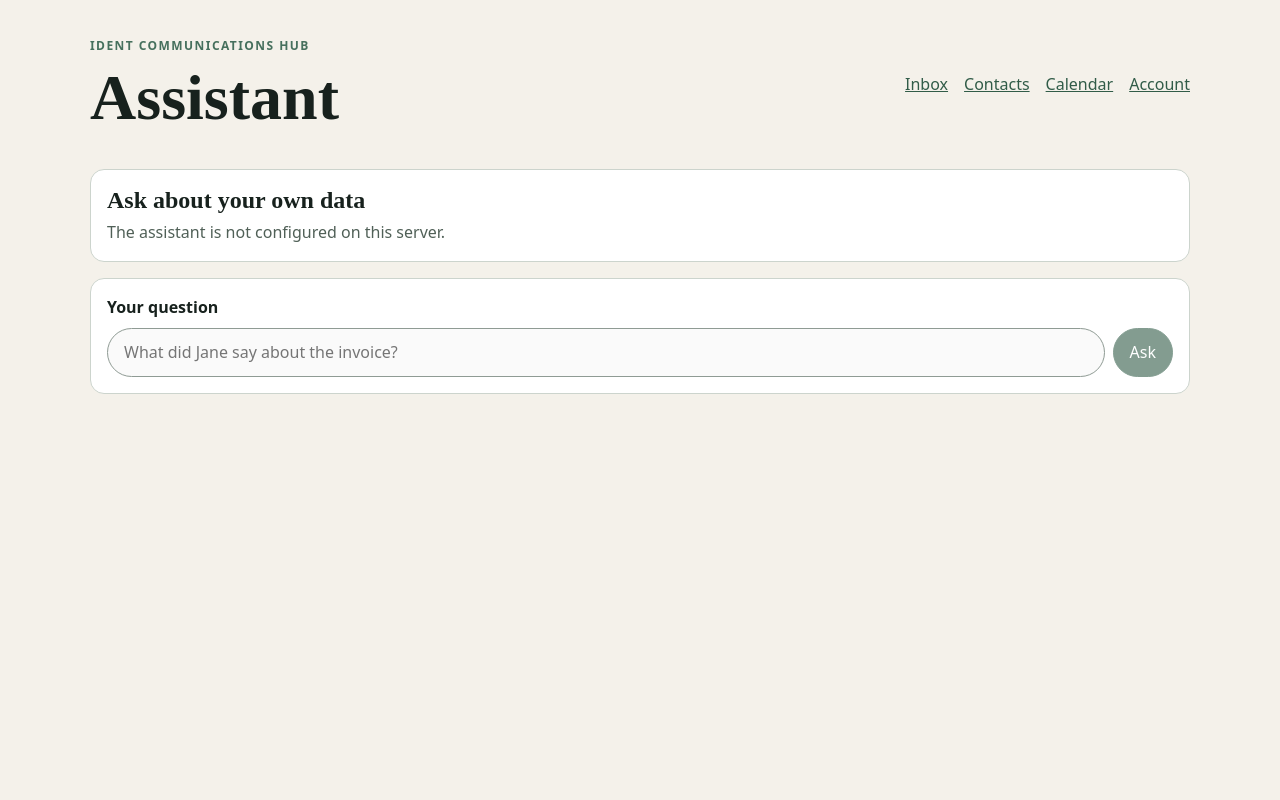
AssistantClient › surfaces a refusal rather than presenting it as an answer
Expected: the button "Ask" is shown, [1113, 328, 1173, 377]
Type "something" into the field labelled "Your question" at (606, 352), box [107, 328, 1105, 377]
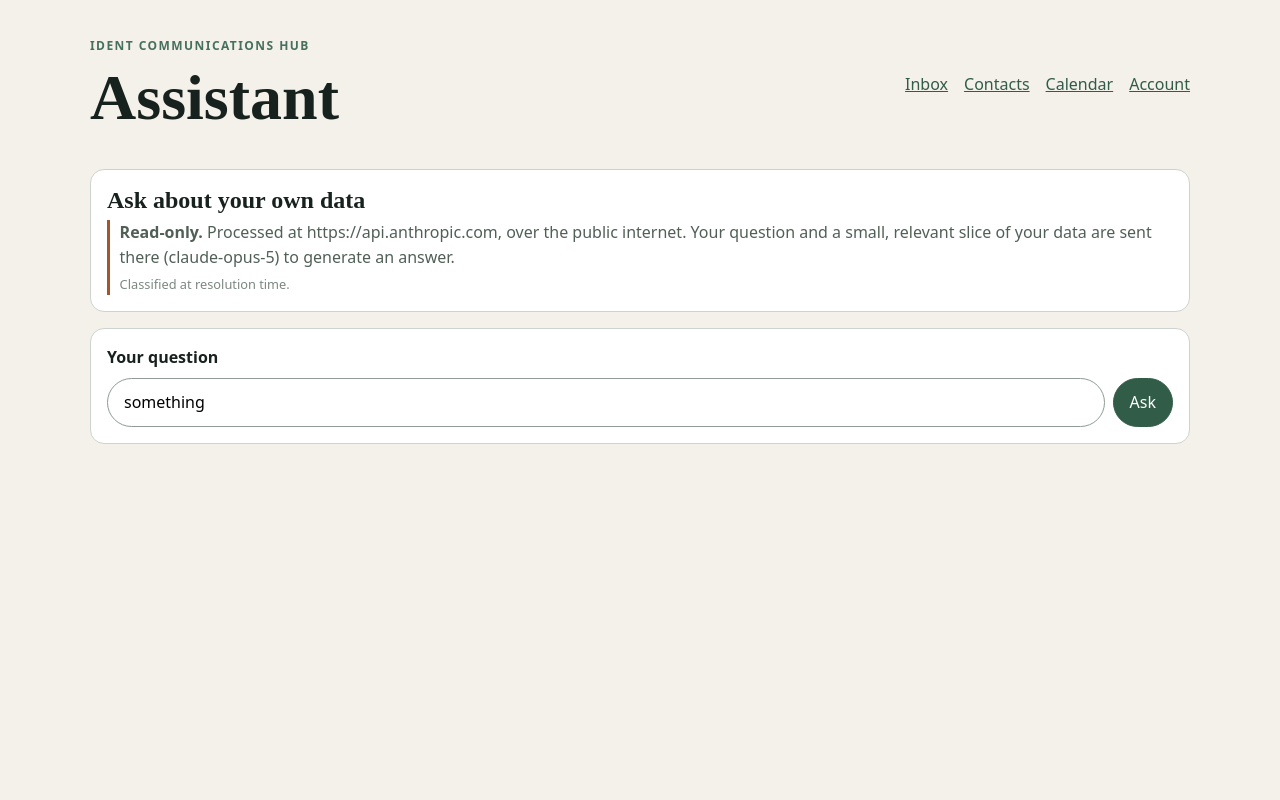
Click the button "Ask" at (1143, 403), box [1113, 378, 1173, 427]
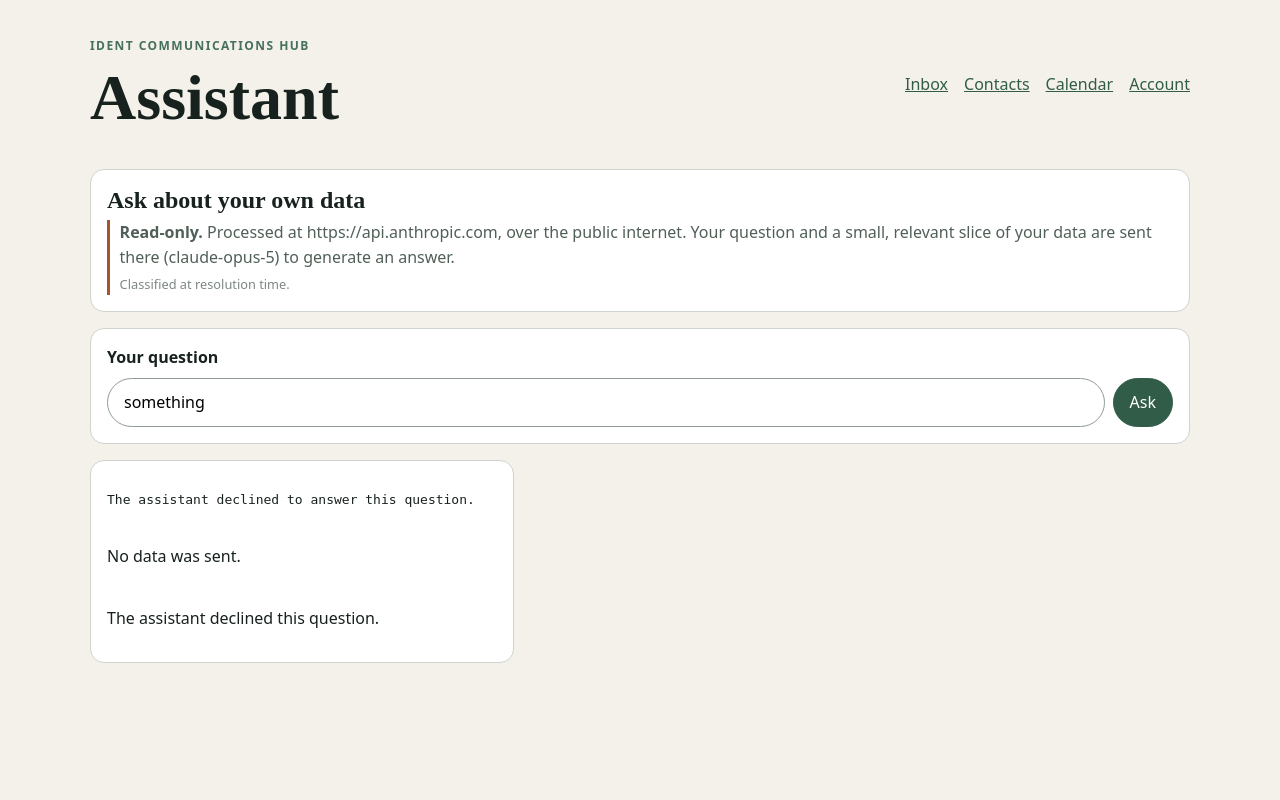
Expected: the text "The assistant declined this question." is shown, [107, 607, 379, 629]
Expected: the text "No data was sent." is shown, [107, 545, 241, 567]
